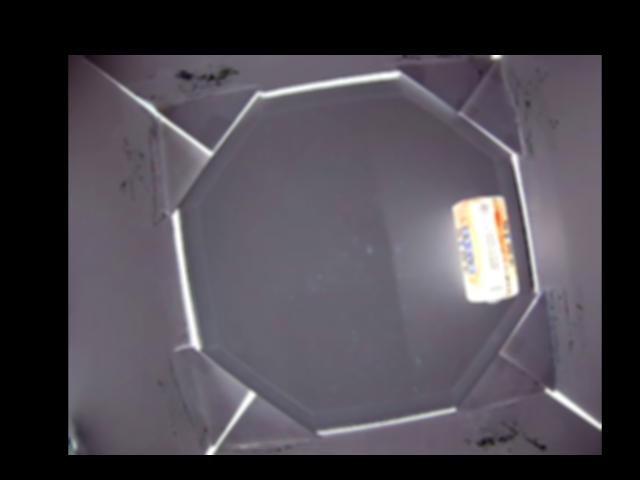Battery: (450, 195, 520, 305)
